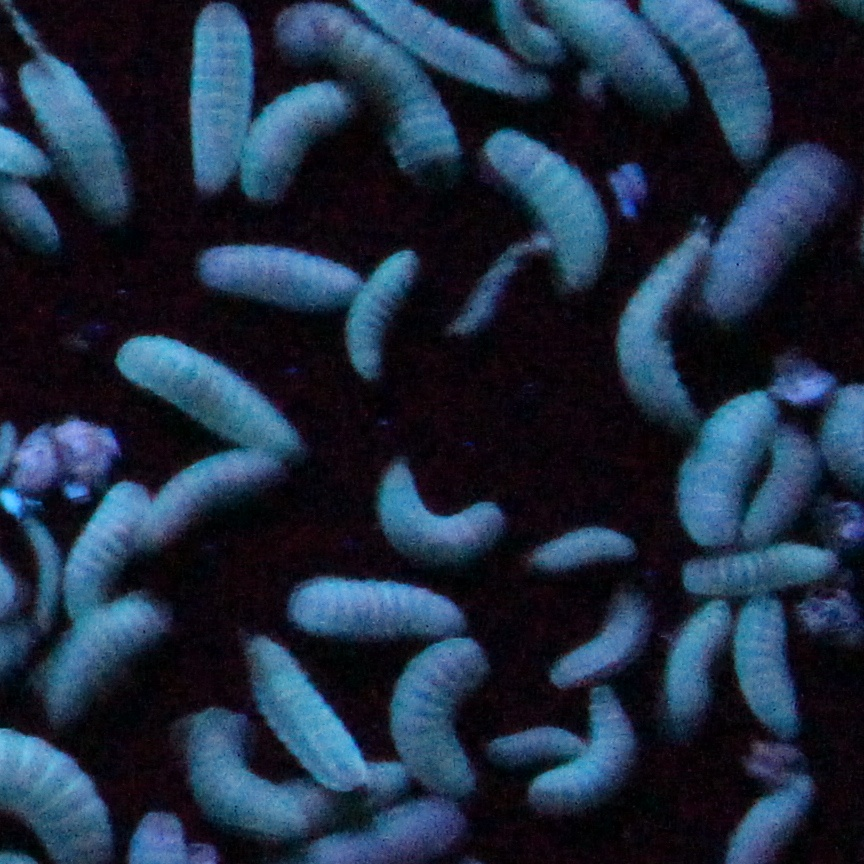larve: (276, 4, 474, 191), (110, 333, 303, 464), (18, 31, 143, 222), (603, 235, 720, 433), (240, 630, 369, 802), (487, 124, 618, 293), (709, 150, 843, 311), (174, 710, 316, 842), (369, 455, 510, 566), (38, 591, 158, 720), (396, 630, 481, 804), (678, 395, 778, 542), (240, 80, 354, 204), (141, 446, 283, 544), (723, 580, 809, 733), (527, 704, 640, 820), (58, 484, 158, 615), (285, 571, 474, 639), (183, 2, 249, 182), (190, 235, 361, 304), (547, 584, 654, 693), (336, 248, 423, 380), (667, 588, 730, 722), (680, 540, 834, 593), (529, 515, 636, 575), (483, 731, 589, 762)
